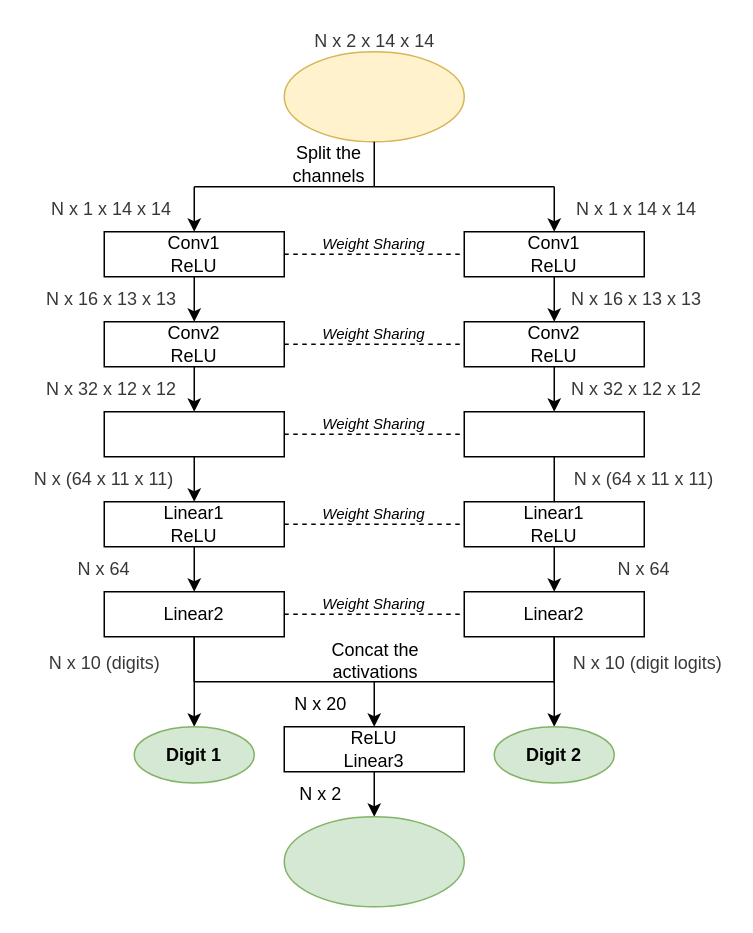
This 753x933 diagram has some shape labels left out. Here are the shapes that lost their labels. From the top down, the box of each, then its label:
(283, 50, 464, 142): Input
(103, 410, 284, 457): Conv3 Flatten
(463, 410, 644, 457): Conv3 ReLU
(283, 815, 464, 907): Output
